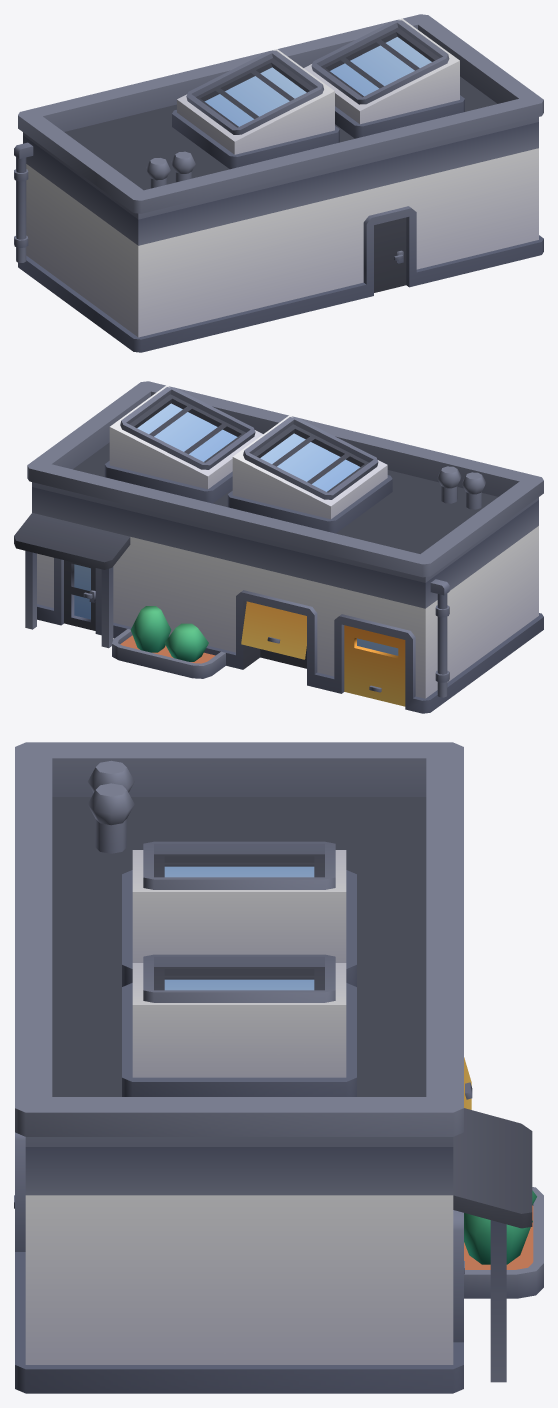
Rendered from building-p.fbx.
3 renders of one model, top to bottom at view 1: azimuth 30°, elevation 25°; view 2: azimuth 150°, elevation 25°; view 3: azimuth 270°, elevation 25°, orthographic. The views are drawn at different scales.
Parts seen in each view (by area): view 1: building-p; view 2: building-p; view 3: building-p.
Part boxes in pixels (bbox=[...]): building-p: bbox=[14, 14, 543, 352]; building-p: bbox=[14, 381, 543, 713]; building-p: bbox=[14, 742, 543, 1393].
Size of the model in its own units: 168 by 71.46 by 99.2.
1 material, 1 textured.
